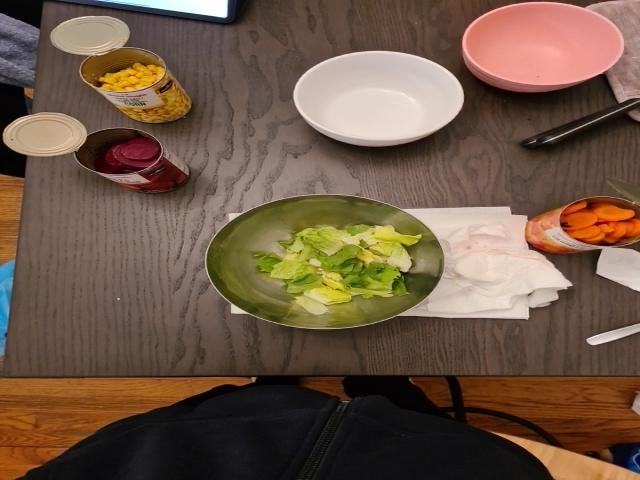kichen waste: (258, 225, 422, 314)
